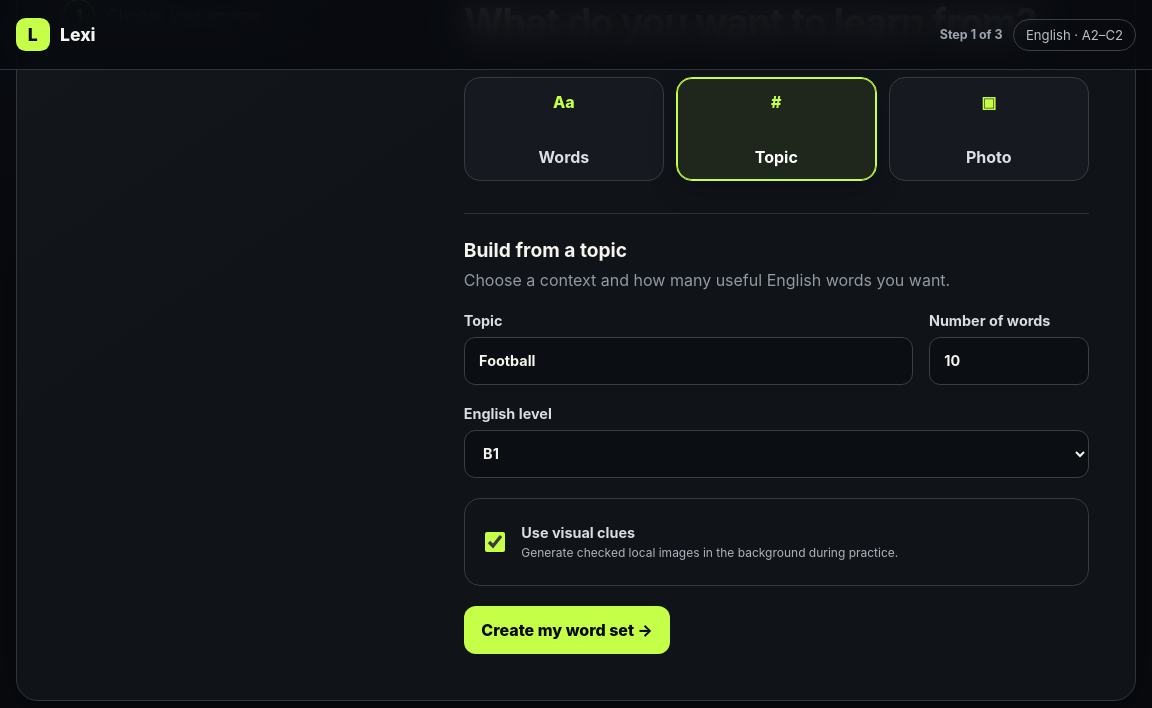
Scenario: VocabularyPage › shows an honest locally derived notice when generation is partial
The width and height of the screenshot is (1152, 708).
(page scrolled)
Replace the text in the number field labelled "Number of words" with "4". click: (1009, 361)
box: [929,337,1089,385]
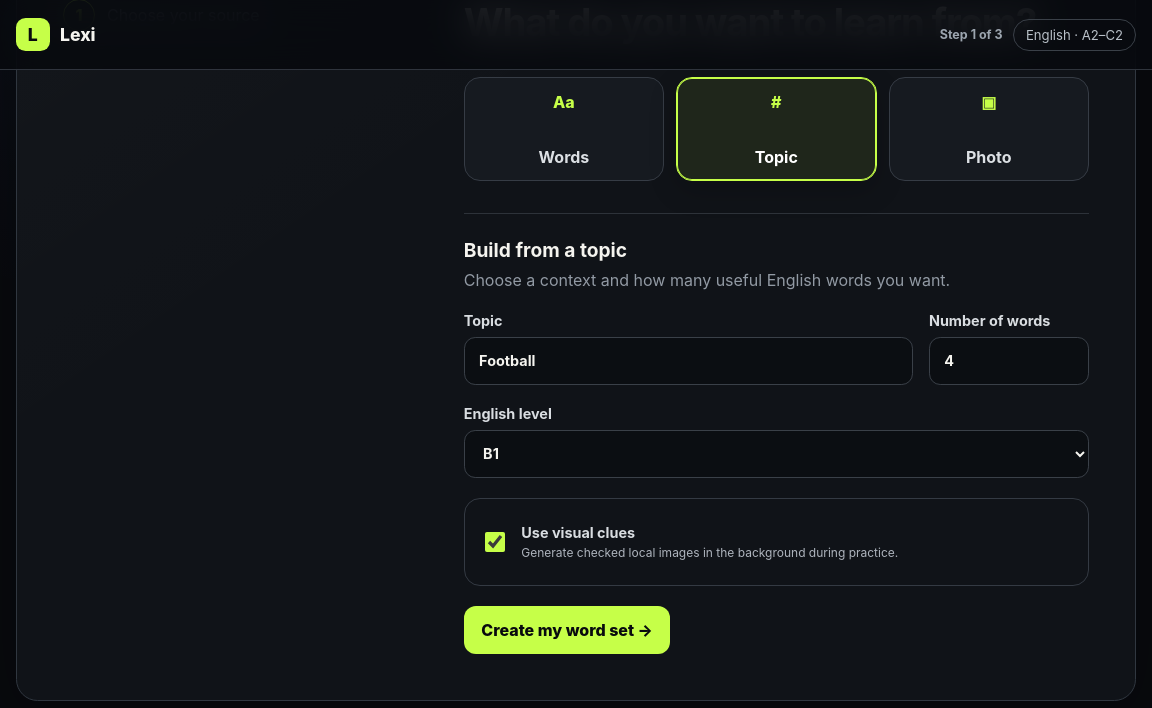
Submit the form named "Create my word set", box [464,213,1089,654]
(page scrolled)
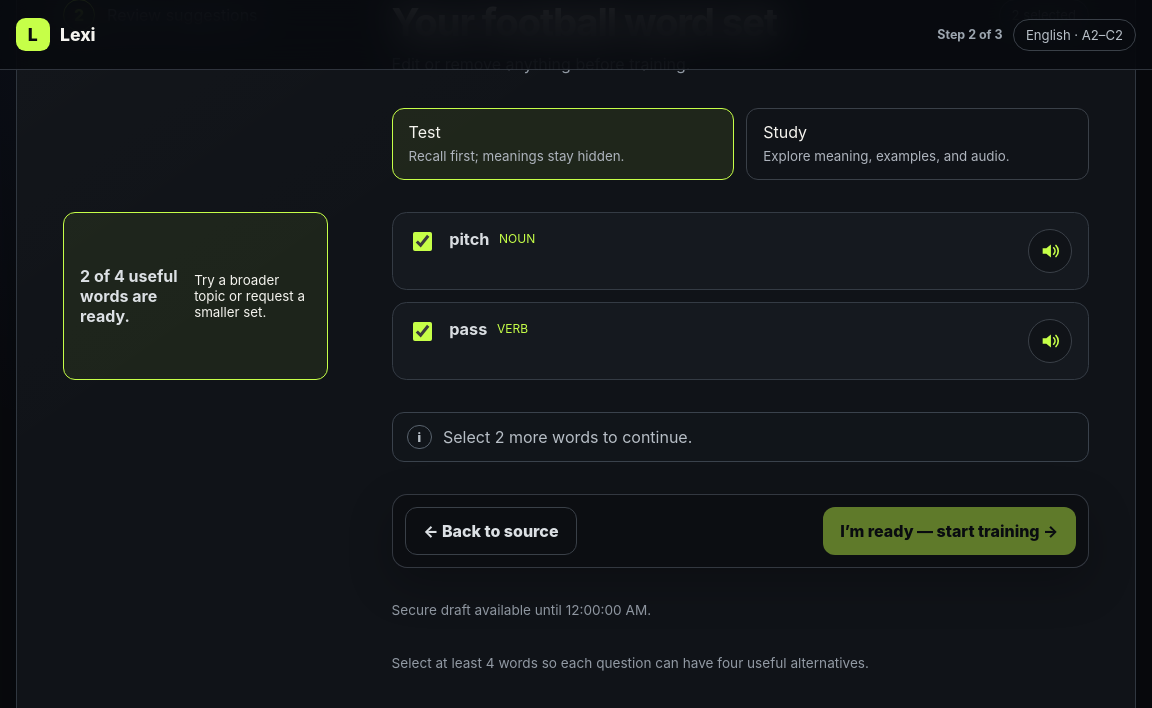
Now the text "2 of 4 useful words are ready." is shown, box [80,266,178,326]
Now the text "Try a broader topic or request a smaller set." is shown, box [194,272,311,320]
